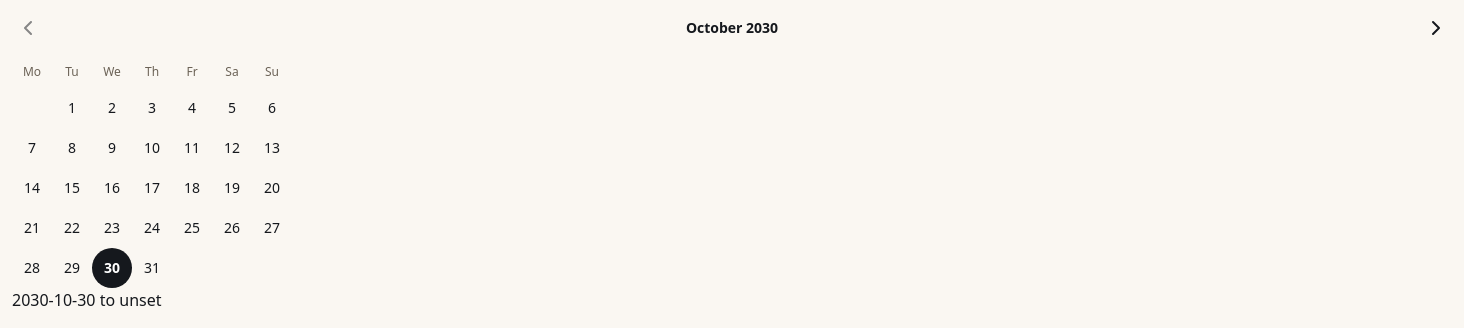
Test: RangeCalendar › works on its own: a labelled grid per month, a single tab stop, picking by click
Expected: the table named "October 2030" is shown, [12,56,292,288]
Click the button named "Thursday 31 October 2030" at coordinates (152, 268), box [132,248,172,288]
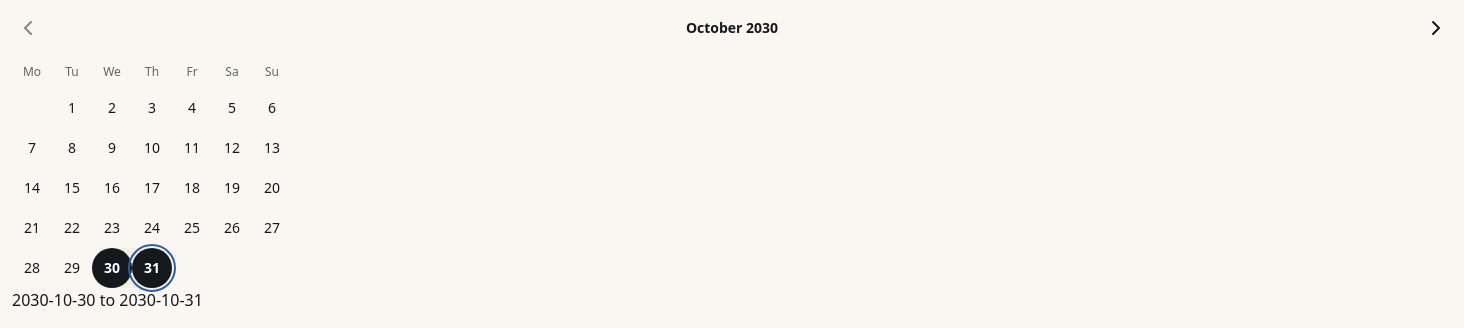
Expected: the text "2030-10-30 to 2030-10-31" is shown, [12,289,203,311]
